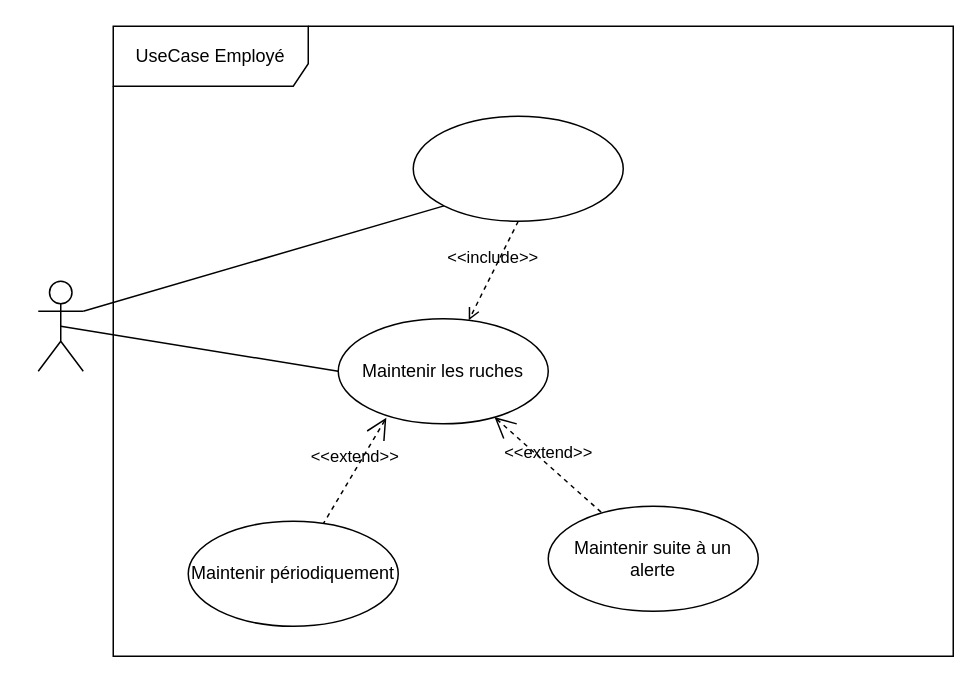
Image size: 980x683. Some labels were removed from this diagram. Each missing label, with the centre of its shape:
"Employé" belongs at point (60, 325).
"Noter résultats de maintenace" belongs at point (517, 168).
